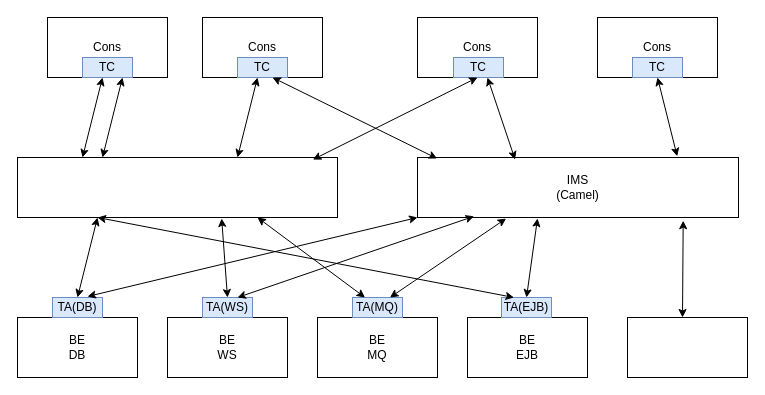
The diagram is 765 pixels wide and 395 high, and some of its shapes have lost their labels. Each missing label, with the centre of its shape:
BE REST: [687,347]
WMB: [177,187]
